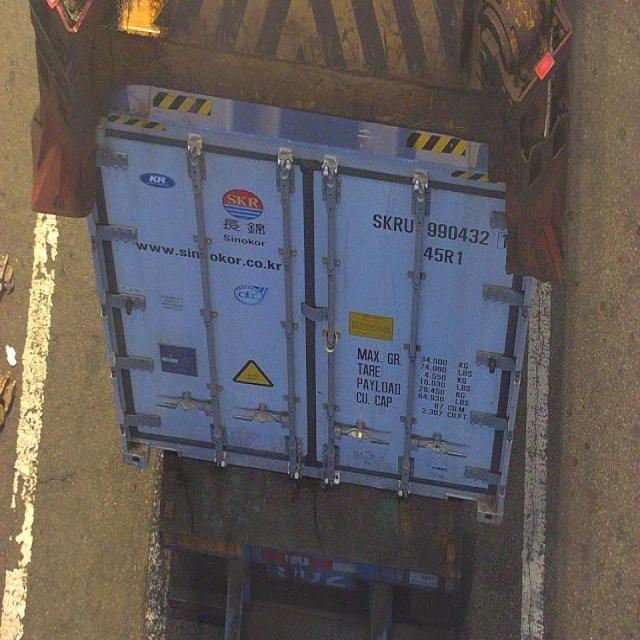ISO: (425, 244, 464, 268)
container_number: (367, 206, 512, 247)
